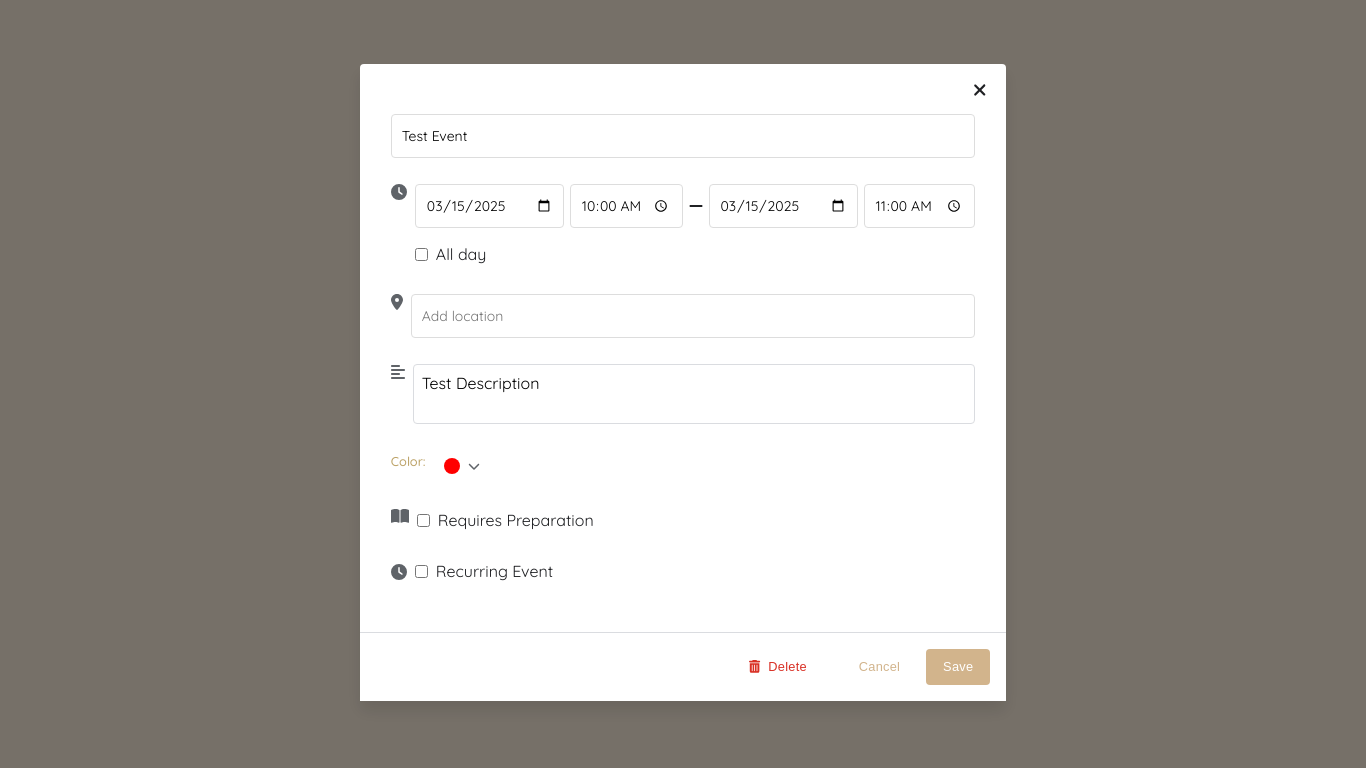
Test: EventModal Component › toggles all-day event functionality
The width and height of the screenshot is (1366, 768).
Expected: the time field with test id "eventmodal-start-time" is shown, [570,184,682,228]
Expected: the time field with test id "eventmodal-end-time" is shown, [864,184,975,228]
# Toggle all-day checkbox
Step 1. Click the checkbox with test id "eventmodal-all-day" → coordinates (421, 255), box [415,248,428,261]
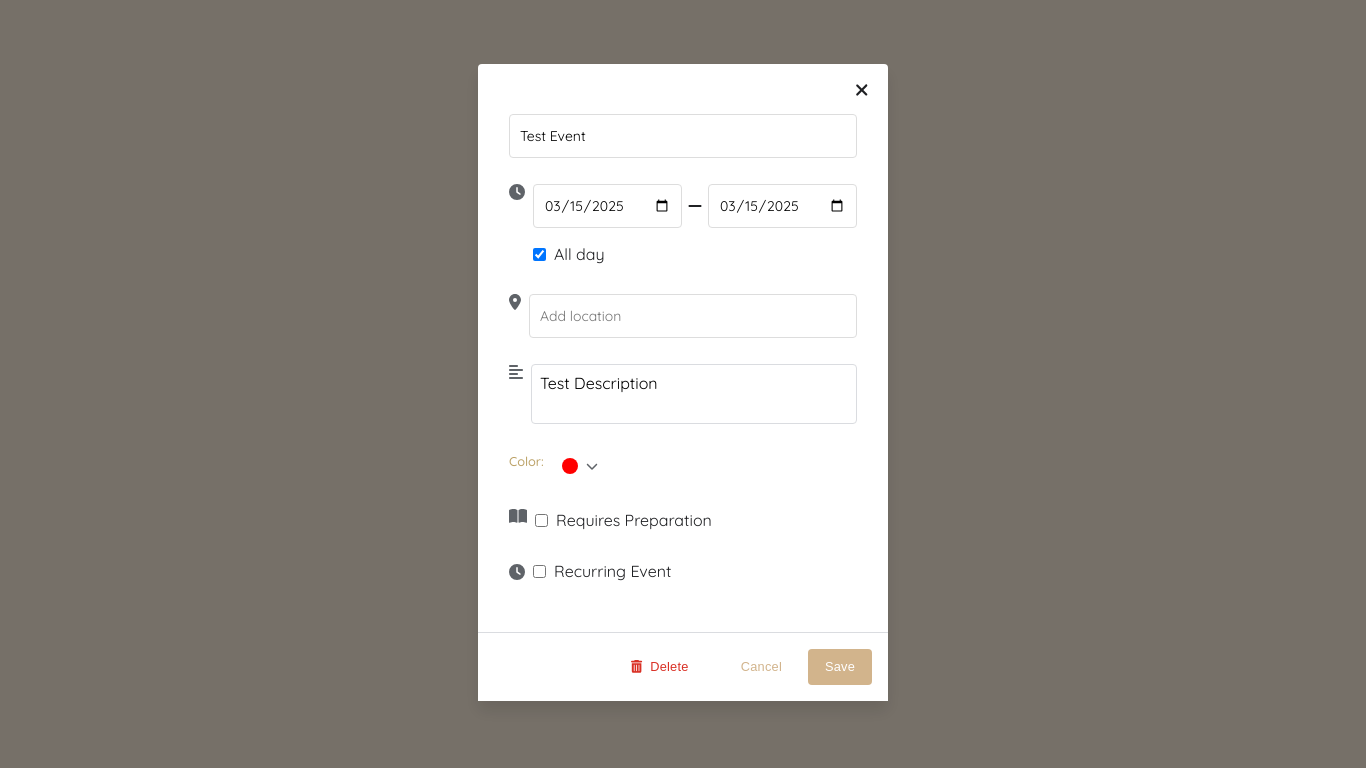
Now the time field with test id "eventmodal-start-time" is gone
Now the time field with test id "eventmodal-end-time" is gone
